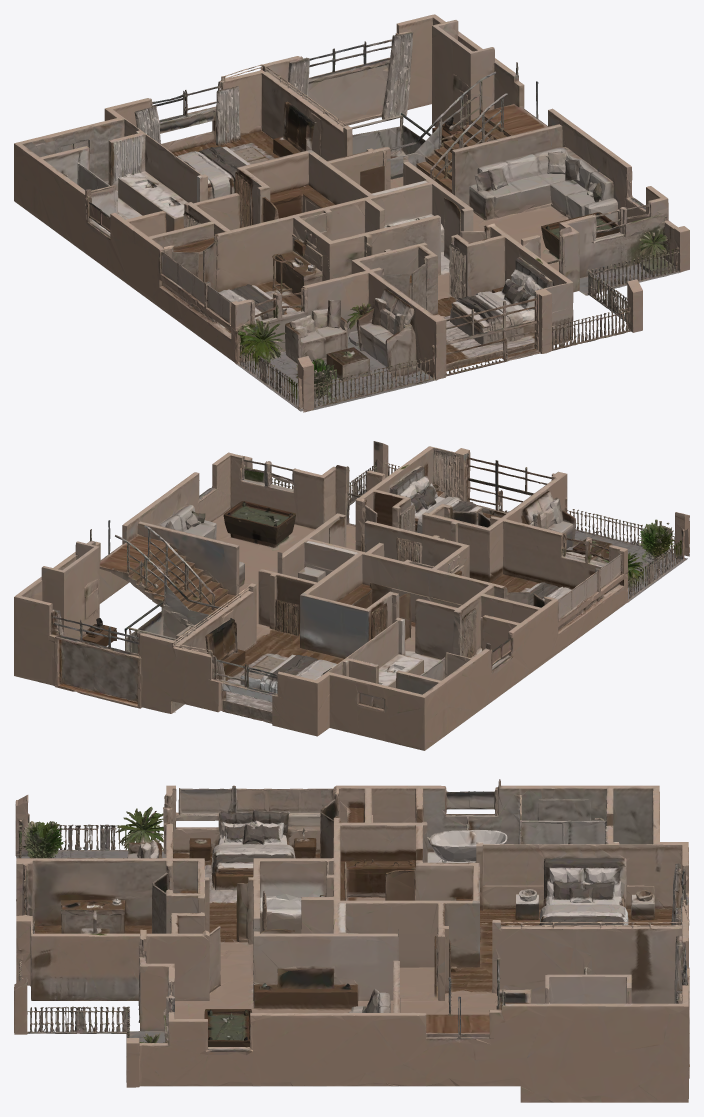
The model's file is dogwood-1.glb.
The picture shows the model from 3 angles, top to bottom: view 1: azimuth 30°, elevation 25°; view 2: azimuth 150°, elevation 25°; view 3: azimuth 270°, elevation 25°; orthographic projection. The views are drawn at different scales.
Parts seen in each view (by area): view 1: geometry_0; view 2: geometry_0; view 3: geometry_0.
Part boxes in pixels (bbox=[...]): geometry_0: bbox=[14, 14, 689, 412]; geometry_0: bbox=[14, 441, 689, 750]; geometry_0: bbox=[14, 779, 689, 1102].
Size of the model in its own units: 13.31 by 3 by 15.85.
1 material, 1 textured.
